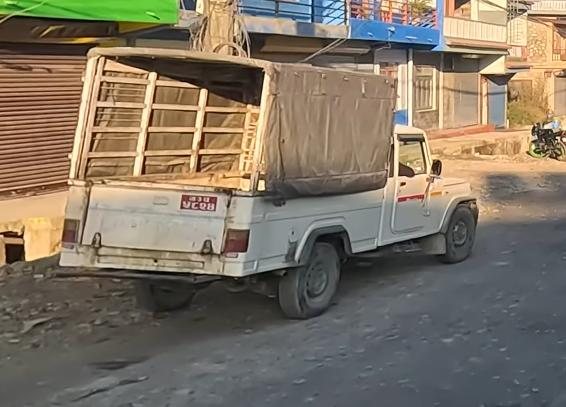bike: (519, 117, 566, 165)
transport_vehicle: (58, 42, 488, 330)
